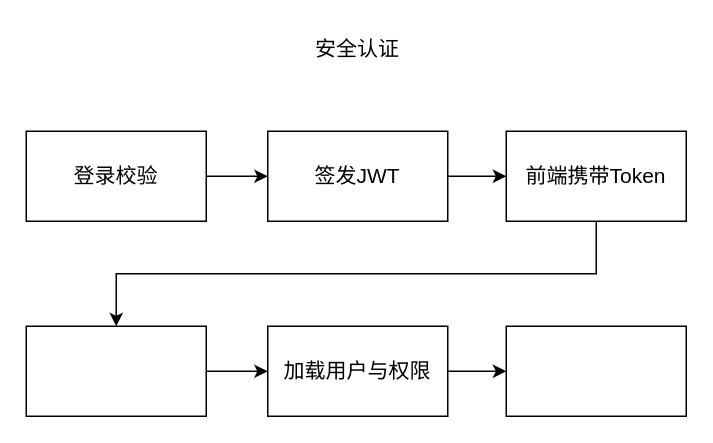
The diagram is 713 pixels wide and 443 high, and some of its shapes have lost their labels. Here are the shapes that lost their labels. From the top down, the centre of each, then its label:
point 115,370: 过滤器校验Token
point 595,370: RBAC鉴权放行
